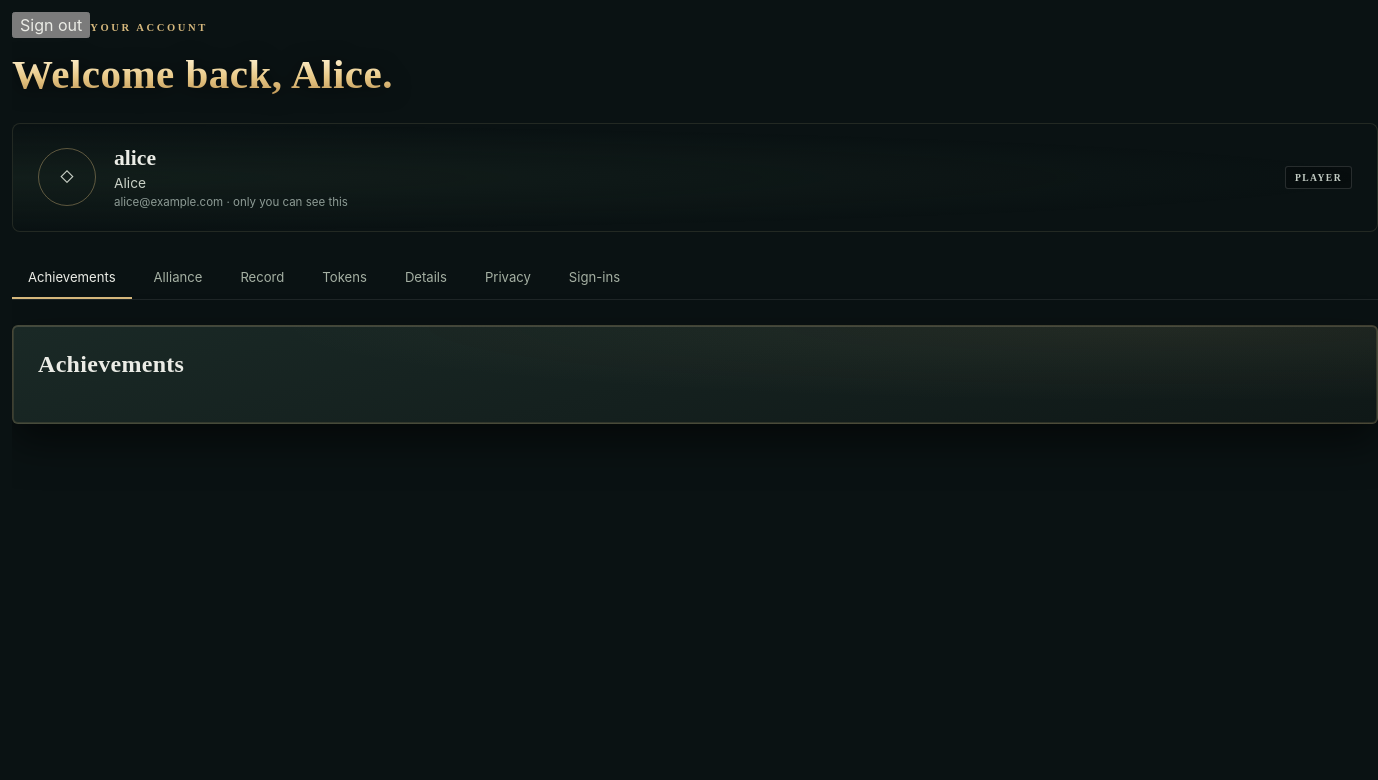
Test: signing out › names each other session's button by its browser, apart from this browser's
The image size is (1378, 780).
Click the tab "Sign-ins": [595, 278] box [553, 257, 636, 299]
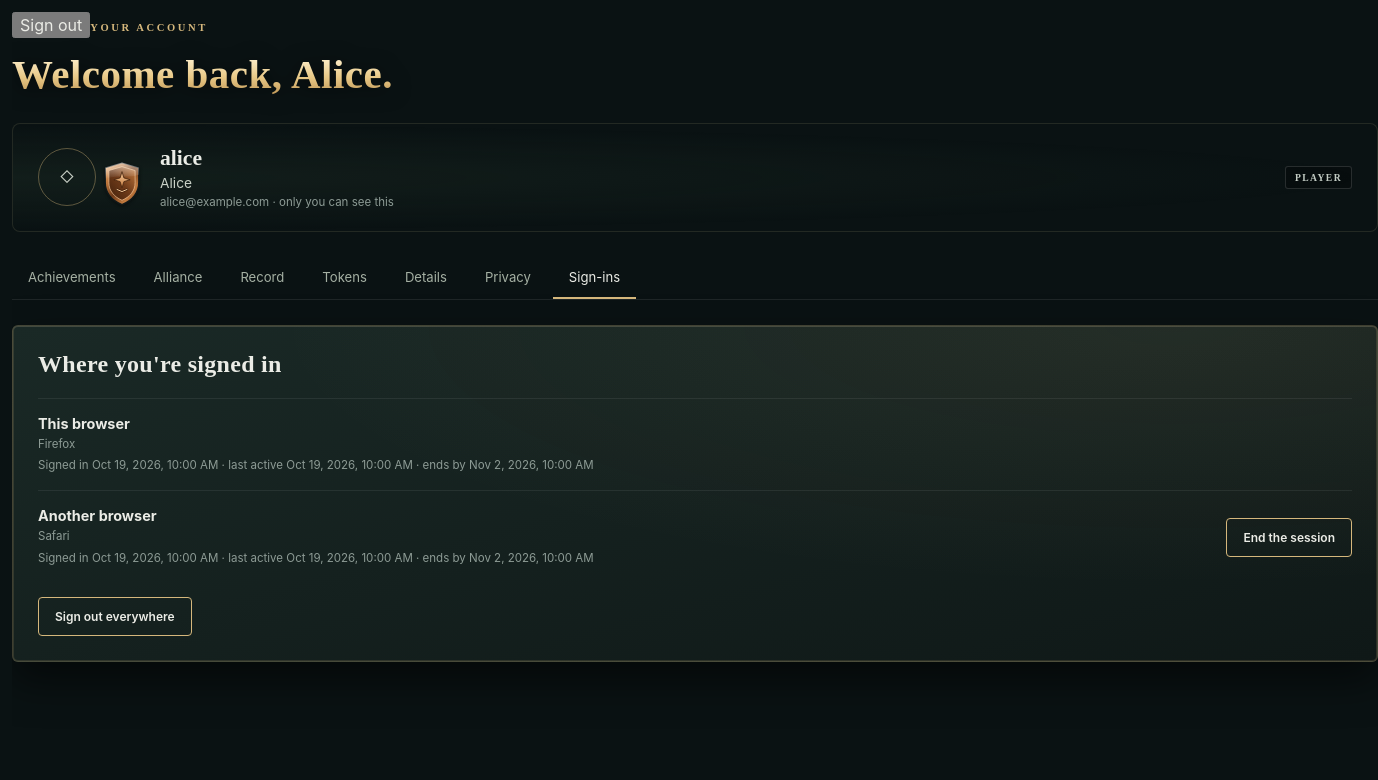
Expected: the number of buttons "Sign out" is 1, [12, 12, 90, 38]
Click the button named "End the session in Safari, signed in ": [1289, 537] box [1226, 518, 1352, 557]
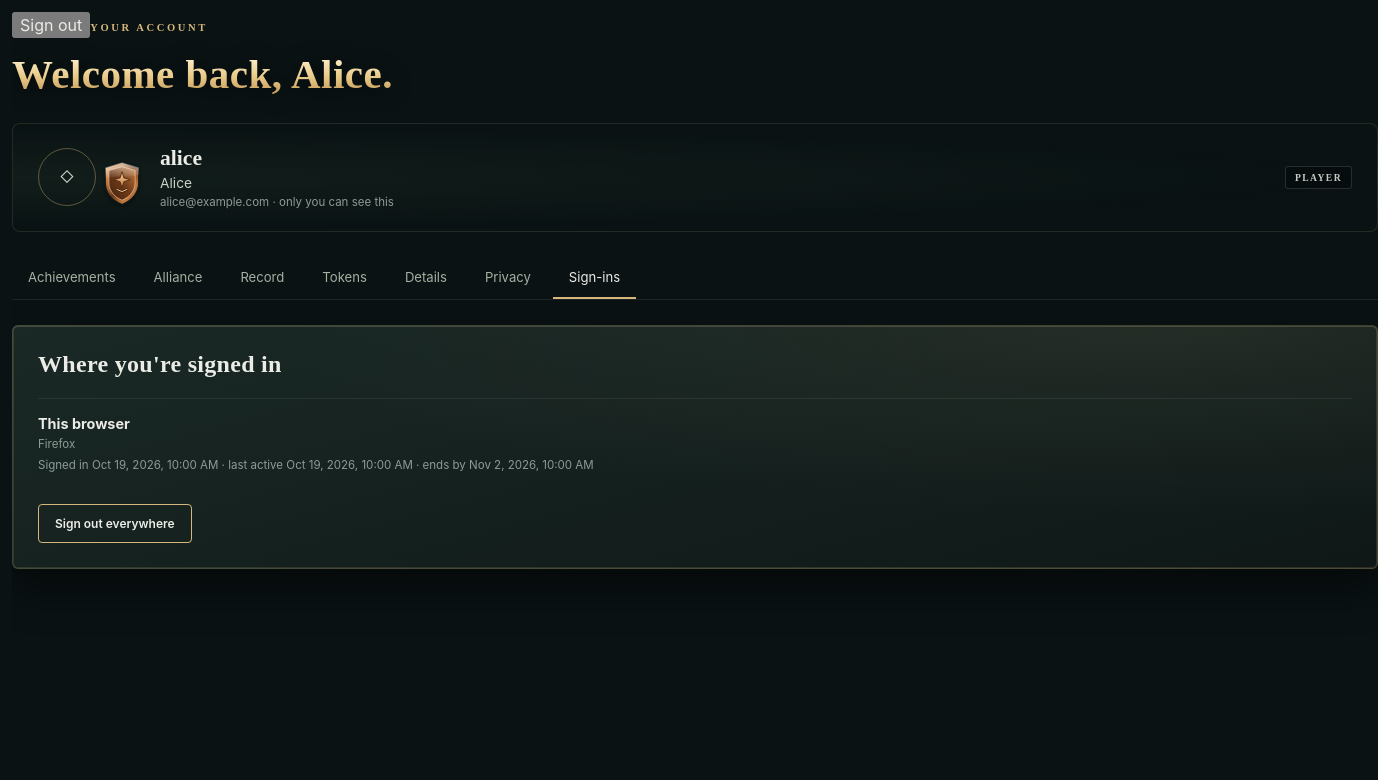
Expected: the button "End the session" is gone
